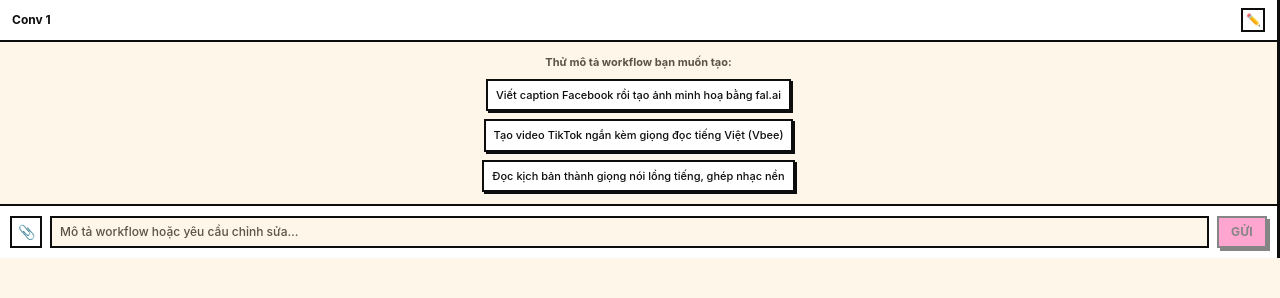
Scenario: ChatPane — composer › re-shows the error banner for a SECOND 409 with the identical message text, even after the user hid the first one by typing
The image size is (1280, 298).
Type "first try" into the text box with test id "chat-input" at (630, 232), box [50,216,1209,248]
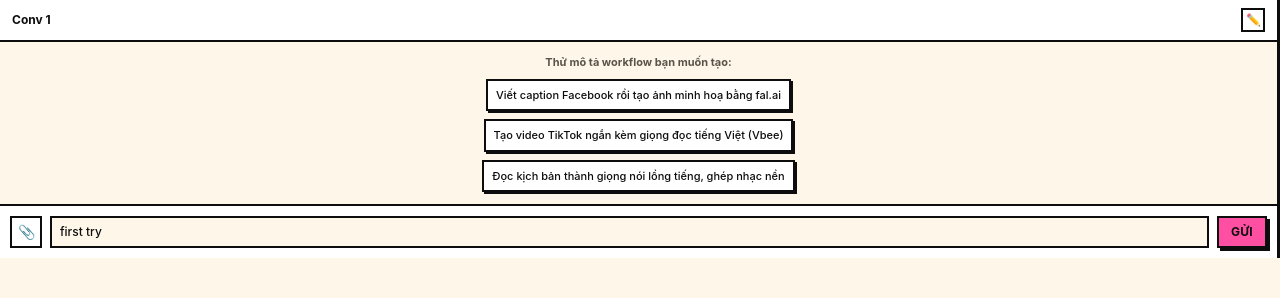
Click the button with test id "chat-send" at (1242, 232), box [1217,216,1267,248]
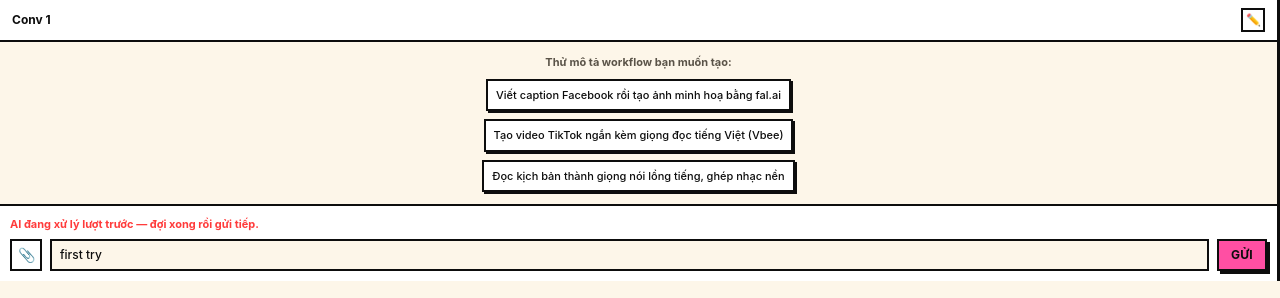
Check: the text "AI đang xử lý lượt trước — đợi xong rồi gửi tiếp." is shown, box [10,217,259,231]
Typing again hides the banner (existing "tự ẩn khi gõ tiếp" behavior).
Replace the text in the text box with test id "chat-input" with "first try, more" at (630, 254), box [50,238,1209,270]
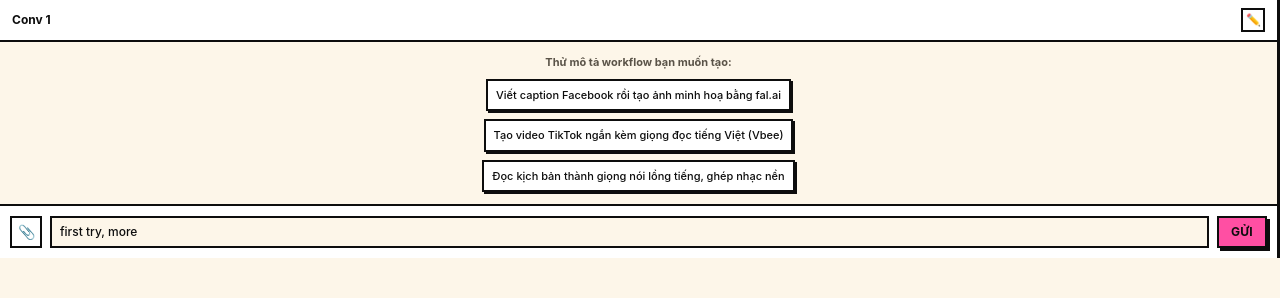
Check: the text "AI đang xử lý lượt trước — đợi xong rồi gửi tiếp." is gone
Click the button with test id "chat-send" at (1242, 232), box [1217,216,1267,248]
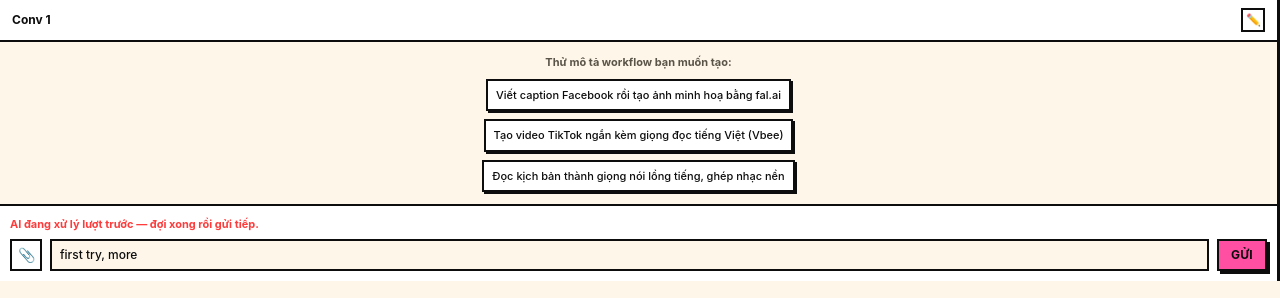
Check: the text "AI đang xử lý lượt trước — đợi xong rồi gửi tiếp." is shown, box [10,217,259,231]
